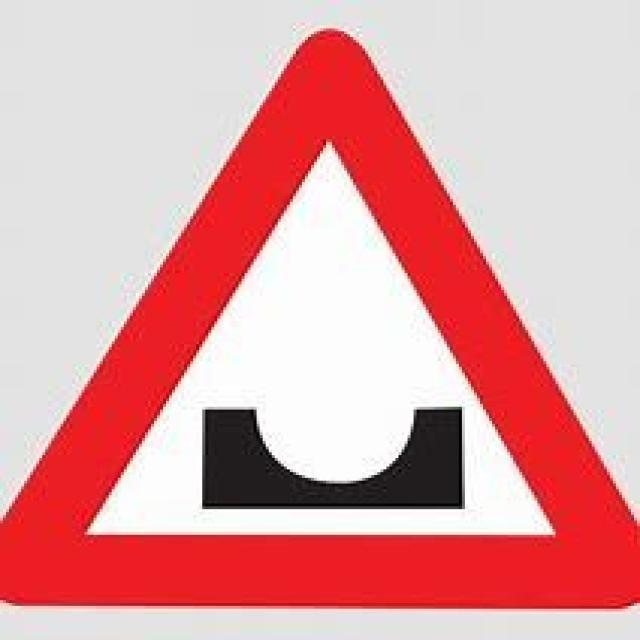dangerous dip: (15, 23, 627, 628)
